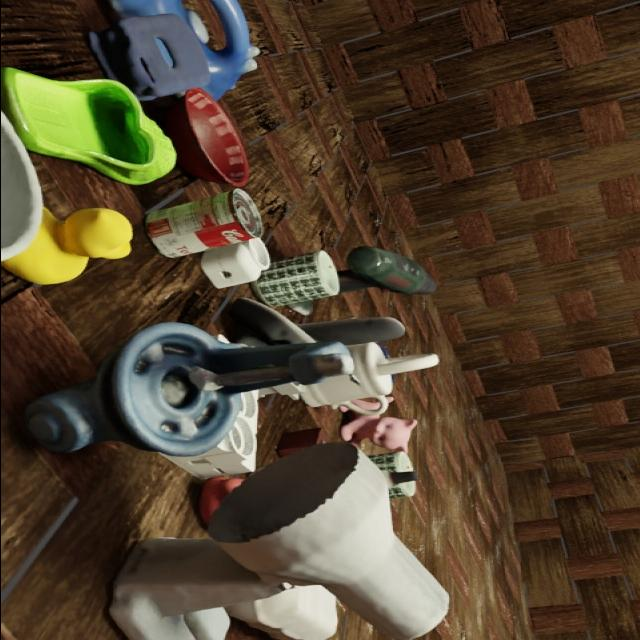Other Objects: (109, 442, 448, 639), (25, 323, 352, 455), (1, 67, 175, 184), (89, 0, 253, 100), (1, 208, 132, 283), (164, 391, 257, 478), (164, 90, 248, 186), (145, 189, 261, 257), (227, 586, 337, 639), (252, 250, 339, 308), (347, 246, 436, 294), (340, 398, 417, 452), (200, 238, 269, 288), (199, 477, 244, 524), (201, 481, 223, 519), (389, 471, 417, 484)
